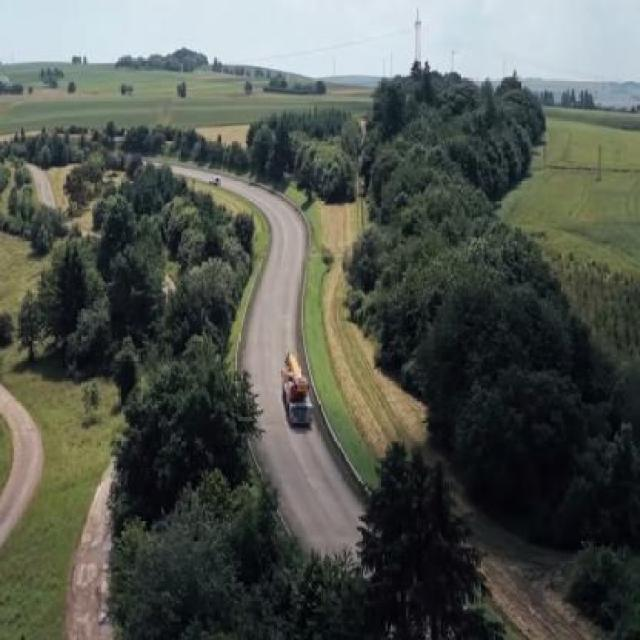Mobile Crane: (281, 353, 313, 430)
